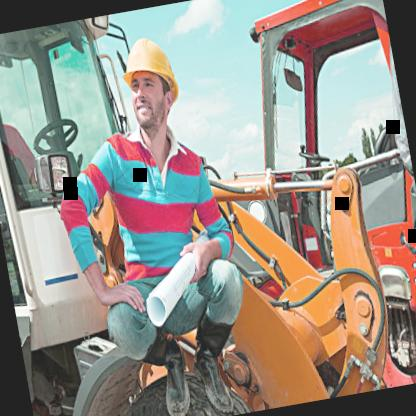helmet: (112, 26, 194, 140)
